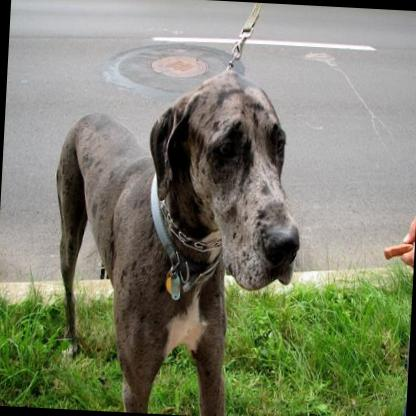Great_Dane: (42, 61, 310, 416)
